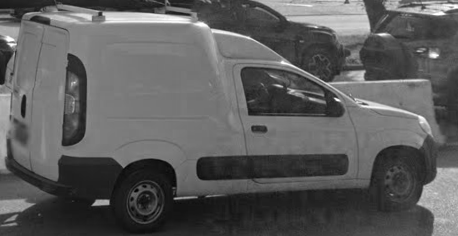car: (9, 10, 437, 228)
